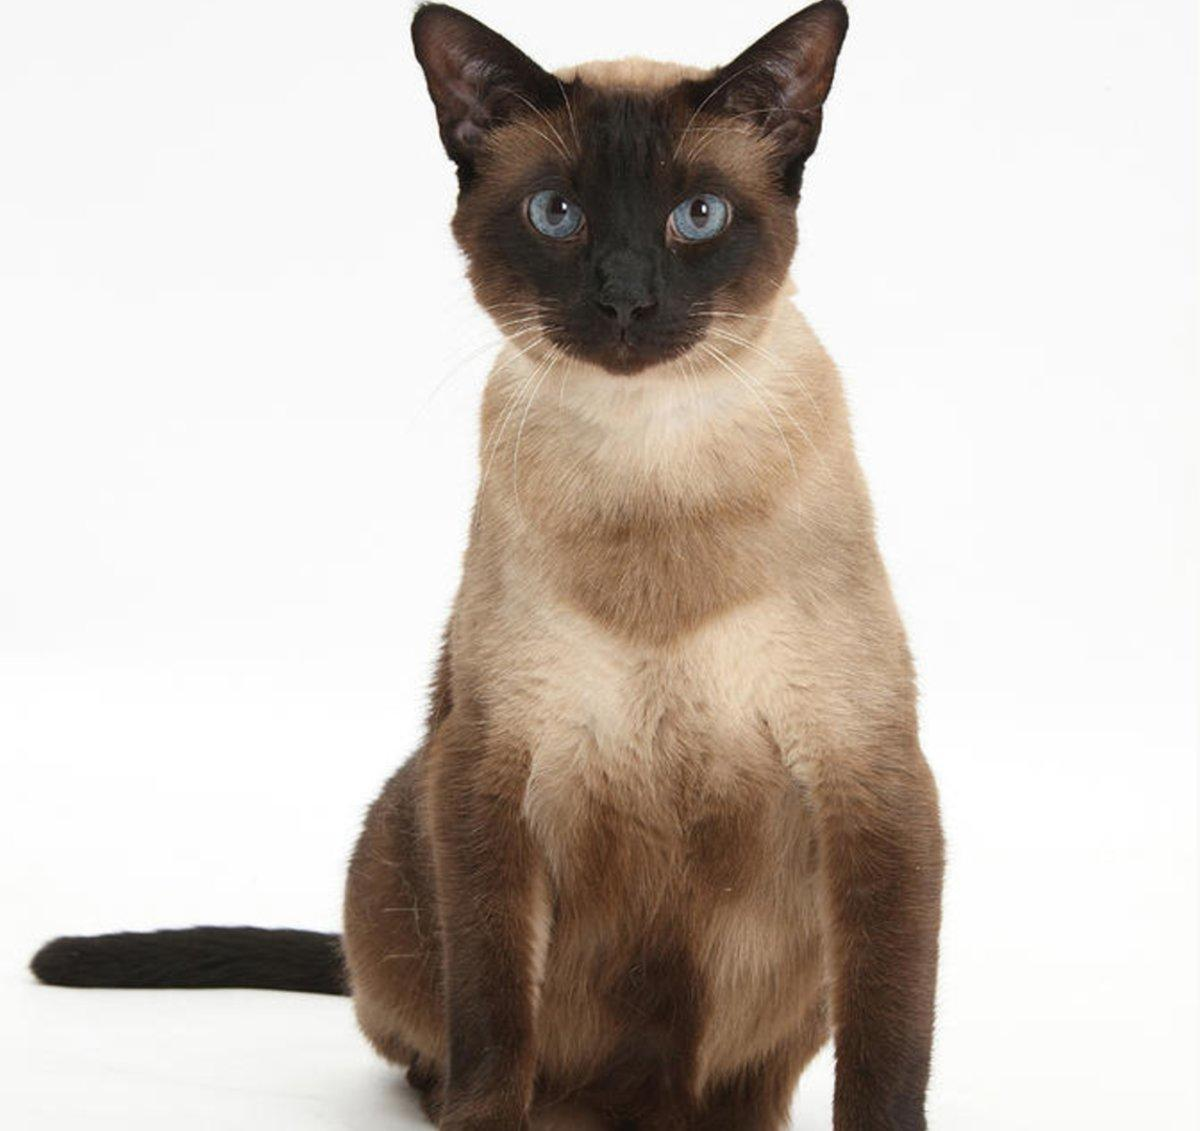siamese: (392, 1, 867, 396)
